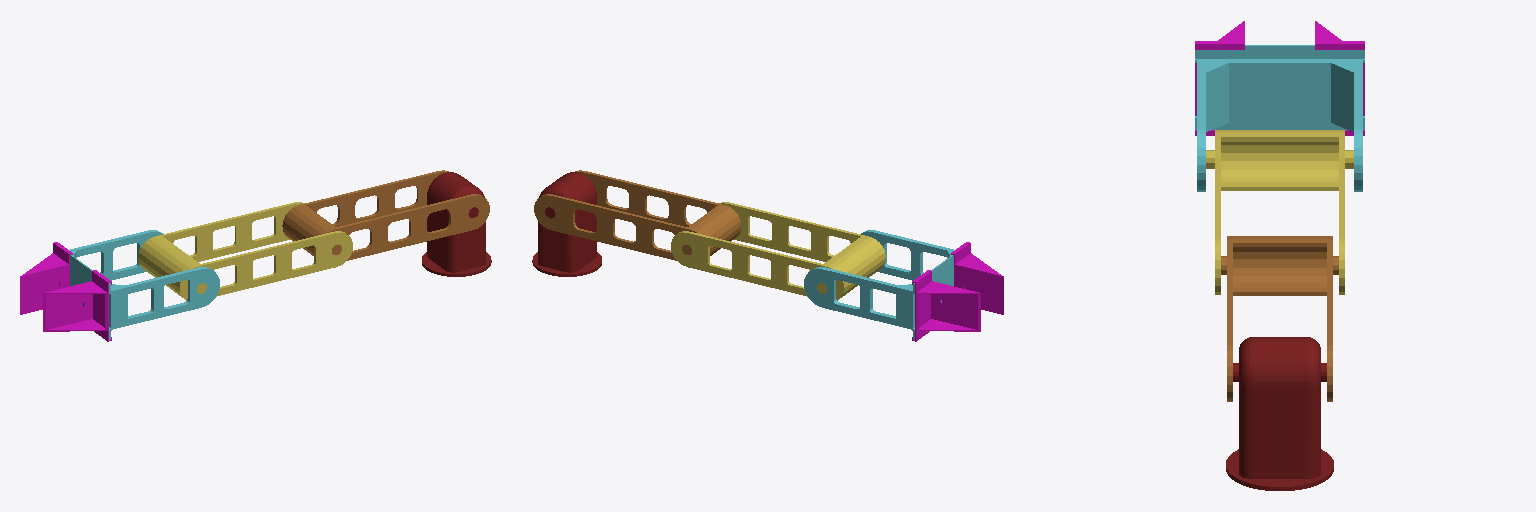
The robot description file, URDF, robot "Robot_URDF":
<?xml version="1.0" encoding="utf-8"?>
<!-- This URDF was automatically created by SolidWorks to URDF Exporter! Originally created by [author] ([email redacted]) 
     Commit Version: 1.6.0-4-g7f85cfe  Build Version: 1.6.7995.38578
     For more information, please see http://wiki.ros.org/sw_urdf_exporter -->
<robot
  name="Robot_URDF">
  <link
    name="Base_Link">
    <inertial>
      <origin
        xyz="-0.023518 -0.010863 0.071827"
        rpy="0 0 0" />
      <mass
        value="233.41" />
      <inertia
        ixx="10.744"
        ixy="0.13376"
        ixz="0.54602"
        iyy="10.299"
        iyz="0.28982"
        izz="11.726" />
    </inertial>
    <visual>
      <origin
        xyz="0 0 0"
        rpy="0 0 0" />
      <geometry>
        <mesh
          filename="package://Robot_URDF/meshes/Base_Link.STL" />
      </geometry>
      <material
        name="">
        <color
          rgba="0.235 0.235 0.235 1" />
      </material>
    </visual>
    <collision>
      <origin
        xyz="0 0 0"
        rpy="0 0 0" />
      <geometry>
        <mesh
          filename="package://Robot_URDF/meshes/Base_Link.STL" />
      </geometry>
    </collision>
  </link>
  <link
    name="Link_1">
    <inertial>
      <origin
        xyz="-1.814E-16 -2.9116E-17 0.027848"
        rpy="0 0 0" />
      <mass
        value="0.46369" />
      <inertia
        ixx="0.00017765"
        ixy="-4.6057E-22"
        ixz="6.9792E-20"
        iyy="0.00016376"
        iyz="-9.2217E-21"
        izz="7.9649E-05" />
    </inertial>
    <visual>
      <origin
        xyz="0 0 0"
        rpy="0 0 0" />
      <geometry>
        <mesh
          filename="package://Robot_URDF/meshes/Link_1.STL" />
      </geometry>
      <material
        name="">
        <color
          rgba="0.51 0.16 0.16 1" />
      </material>
    </visual>
    <collision>
      <origin
        xyz="0 0 0"
        rpy="0 0 0" />
      <geometry>
        <mesh
          filename="package://Robot_URDF/meshes/Link_1.STL" />
      </geometry>
    </collision>
  </link>
  <joint
    name="Joint1"
    type="revolute">
    <origin
      xyz="0 0 0.09"
      rpy="0 0 0" />
    <parent
      link="Base_Link" />
    <child
      link="Link_1" />
    <axis
      xyz="0 0 -1" />
    <limit
      lower="-1.57"
      upper="1.57"
      effort="10"
      velocity="100" />
  </joint>
  <link
    name="Link_2">
    <inertial>
      <origin
        xyz="-0.06757 -0.0225 -2.7756E-17"
        rpy="0 0 0" />
      <mass
        value="0.11993" />
      <inertia
        ixx="5.3919E-05"
        ixy="-1.7924E-19"
        ixz="9.8265E-21"
        iyy="0.00022432"
        iyz="3.6529E-22"
        izz="0.00026271" />
    </inertial>
    <visual>
      <origin
        xyz="0 0 0"
        rpy="0 0 0" />
      <geometry>
        <mesh
          filename="package://Robot_URDF/meshes/Link_2.STL" />
      </geometry>
      <material
        name="">
        <color
          rgba="0.682 0.471 0.255 1" />
      </material>
    </visual>
    <collision>
      <origin
        xyz="0 0 0"
        rpy="0 0 0" />
      <geometry>
        <mesh
          filename="package://Robot_URDF/meshes/Link_2.STL" />
      </geometry>
    </collision>
  </link>
  <joint
    name="Joint2"
    type="revolute">
    <origin
      xyz="0 0.0225 0.0450000000000001"
      rpy="0 0 0" />
    <parent
      link="Link_1" />
    <child
      link="Link_2" />
    <axis
      xyz="0 -1 0" />
    <limit
      lower="-1.57"
      upper="1.57"
      effort="10"
      velocity="100" />
  </joint>
  <link
    name="Link_3">
    <inertial>
      <origin
        xyz="-0.07128 -0.0275 -2.7756E-17"
        rpy="0 0 0" />
      <mass
        value="0.12851" />
      <inertia
        ixx="8.1361E-05"
        ixy="-2.1127E-20"
        ixz="-3.7707E-21"
        iyy="0.00023943"
        iyz="1.614E-21"
        izz="0.00030386" />
    </inertial>
    <visual>
      <origin
        xyz="0 0 0"
        rpy="0 0 0" />
      <geometry>
        <mesh
          filename="package://Robot_URDF/meshes/Link_3.STL" />
      </geometry>
      <material
        name="">
        <color
          rgba="0.824 0.765 0.353 1" />
      </material>
    </visual>
    <collision>
      <origin
        xyz="0 0 0"
        rpy="0 0 0" />
      <geometry>
        <mesh
          filename="package://Robot_URDF/meshes/Link_3.STL" />
      </geometry>
    </collision>
  </link>
  <joint
    name="Joint3"
    type="revolute">
    <origin
      xyz="-0.107 0.005 0"
      rpy="0 0 0" />
    <parent
      link="Link_2" />
    <child
      link="Link_3" />
    <axis
      xyz="0 -1 0" />
    <limit
      lower="-1.57"
      upper="1.57"
      effort="10"
      velocity="100" />
  </joint>
  <link
    name="Link_4">
    <inertial>
      <origin
        xyz="-0.045271 -0.035 -2.7756E-17"
        rpy="0 0 0" />
      <mass
        value="0.14501" />
      <inertia
        ixx="0.00013446"
        ixy="-1.9102E-20"
        ixz="-5.6157E-20"
        iyy="0.00012072"
        iyz="1.4521E-20"
        izz="0.00022946" />
    </inertial>
    <visual>
      <origin
        xyz="0 0 0"
        rpy="0 0 0" />
      <geometry>
        <mesh
          filename="package://Robot_URDF/meshes/Link_4.STL" />
      </geometry>
      <material
        name="">
        <color
          rgba="0.431 0.784 0.824 1" />
      </material>
    </visual>
    <collision>
      <origin
        xyz="0 0 0"
        rpy="0 0 0" />
      <geometry>
        <mesh
          filename="package://Robot_URDF/meshes/Link_4.STL" />
      </geometry>
    </collision>
  </link>
  <joint
    name="Joint4"
    type="revolute">
    <origin
      xyz="-0.107 0.0075 0"
      rpy="0 0 0" />
    <parent
      link="Link_3" />
    <child
      link="Link_4" />
    <axis
      xyz="0 1 0" />
    <limit
      lower="-1.57"
      upper="1.57"
      effort="10"
      velocity="100" />
  </joint>
  <link
    name="End_Effector_1">
    <inertial>
      <origin
        xyz="-0.0018349 0.0057553 -1.3167E-06"
        rpy="0 0 0" />
      <mass
        value="0.021787" />
      <inertia
        ixx="3.9936E-06"
        ixy="-8.6187E-07"
        ixz="5.2637E-11"
        iyy="5.8402E-06"
        iyz="-1.651E-10"
        izz="3.6098E-06" />
    </inertial>
    <visual>
      <origin
        xyz="0 0 0"
        rpy="0 0 0" />
      <geometry>
        <mesh
          filename="package://Robot_URDF/meshes/End_Effector_1.STL" />
      </geometry>
      <material
        name="">
        <color
          rgba="0.863 0.118 0.784 1" />
      </material>
    </visual>
    <collision>
      <origin
        xyz="0 0 0"
        rpy="0 0 0" />
      <geometry>
        <mesh
          filename="package://Robot_URDF/meshes/End_Effector_1.STL" />
      </geometry>
    </collision>
  </link>
  <joint
    name="Joint5_1"
    type="prismatic">
    <origin
      xyz="-0.079479 -0.0196 0"
      rpy="0 0 0" />
    <parent
      link="Link_4" />
    <child
      link="End_Effector_1" />
    <axis
      xyz="0 -0.99634 -0.085528" />
    <limit
      lower="-1.57"
      upper="1.57"
      effort="10"
      velocity="100" />
  </joint>
  <link
    name="End_Effector_2">
    <inertial>
      <origin
        xyz="-0.0018349 -0.036555 1.3167E-06"
        rpy="0 0 0" />
      <mass
        value="0.021787" />
      <inertia
        ixx="3.9936E-06"
        ixy="8.6187E-07"
        ixz="-5.2637E-11"
        iyy="5.8402E-06"
        iyz="-1.651E-10"
        izz="3.6098E-06" />
    </inertial>
    <visual>
      <origin
        xyz="0 0 0"
        rpy="0 0 0" />
      <geometry>
        <mesh
          filename="package://Robot_URDF/meshes/End_Effector_2.STL" />
      </geometry>
      <material
        name="">
        <color
          rgba="0.863 0.118 0.784 1" />
      </material>
    </visual>
    <collision>
      <origin
        xyz="0 0 0"
        rpy="0 0 0" />
      <geometry>
        <mesh
          filename="package://Robot_URDF/meshes/End_Effector_2.STL" />
      </geometry>
    </collision>
  </link>
  <joint
    name="Joint5_2"
    type="prismatic">
    <origin
      xyz="-0.079479 -0.0196 0"
      rpy="0 0 0" />
    <parent
      link="Link_4" />
    <child
      link="End_Effector_2" />
    <axis
      xyz="0 -0.99634 -0.085528" />
    <limit
      lower="-1.57"
      upper="1.57"
      effort="10"
      velocity="100" />
  </joint>
</robot>

--- What the picture shows (computed from the rendered views, not written in the file) ---
3 views of the same robot in one strip: view 1: azimuth 30°, elevation 25°; view 2: azimuth 150°, elevation 25°; view 3: azimuth 270°, elevation 25° (orthographic).
Model Robot_URDF with 7 links and 6 joints (4 revolute, 2 prismatic), rooted at Base_Link, posed every joint at zero.
Visible links, largest first — view 1: Link_3, Link_2, Link_4, Link_1, End_Effector_2, End_Effector_1; view 2: Link_3, Link_2, Link_4, Link_1, End_Effector_1, End_Effector_2; view 3: Link_4, Link_1, Link_3, Link_2, End_Effector_1, End_Effector_2.
Boxes of the visible links, x1,y1,x2,y2 form: Link_3: (138, 202, 352, 300); Link_2: (282, 170, 489, 260); Link_4: (69, 230, 219, 339); Link_1: (422, 172, 491, 276); End_Effector_2: (43, 270, 111, 341); End_Effector_1: (20, 242, 72, 314); Link_3: (671, 202, 885, 300); Link_2: (534, 170, 741, 260); Link_4: (804, 230, 954, 339); Link_1: (532, 172, 601, 276); End_Effector_1: (912, 270, 980, 341); End_Effector_2: (951, 242, 1003, 314); Link_4: (1195, 45, 1364, 191); Link_1: (1226, 337, 1333, 490); Link_3: (1206, 130, 1353, 294); Link_2: (1221, 236, 1338, 401); End_Effector_1: (1315, 21, 1364, 135); End_Effector_2: (1195, 21, 1244, 135).
Size in the robot's own frame: 0.3461 by 0.072 by 0.0675 metres.
Meshes: 7 distinct files referenced, 6 mesh visuals loaded (6 binary STL); not drawn: 1 (reference not matched to a file when rendering).